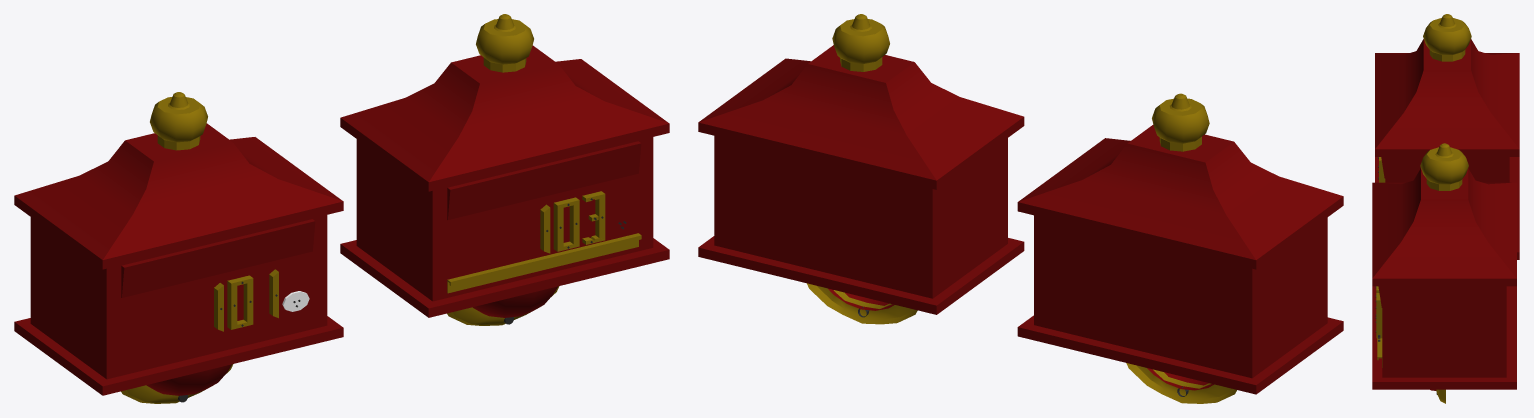
The model's file is Empty_Denzel_Mailboxes.fbx.
3 views of the same model, side by side, from view 1: azimuth 30°, elevation 25°; view 2: azimuth 150°, elevation 25°; view 3: azimuth 270°, elevation 25° (orthographic). The views are drawn at different scales.
Visible parts, largest first — view 1: geo_Mailbox_Main.003, geo_Mailbox_TopOrnament, geo_Mailbox_Drawer.001; view 2: geo_Mailbox_Main.003, geo_Mailbox_TopOrnament; view 3: geo_Mailbox_TopOrnament, geo_Mailbox_Main.003, geo_Mailbox_Number.006.
Boxes of the visible parts, x1,y1,x2,y2 form: geo_Mailbox_Main.003: [14, 92, 343, 403]; geo_Mailbox_TopOrnament: [340, 14, 669, 325]; geo_Mailbox_Drawer.001: [447, 233, 641, 293]; geo_Mailbox_Main.003: [1017, 93, 1343, 403]; geo_Mailbox_TopOrnament: [698, 14, 1024, 324]; geo_Mailbox_TopOrnament: [1372, 143, 1516, 403]; geo_Mailbox_Main.003: [1375, 14, 1519, 259]; geo_Mailbox_Number.006: [1376, 300, 1382, 338].
Size of the model in its own units: 63.59 by 33.36 by 17.54.
